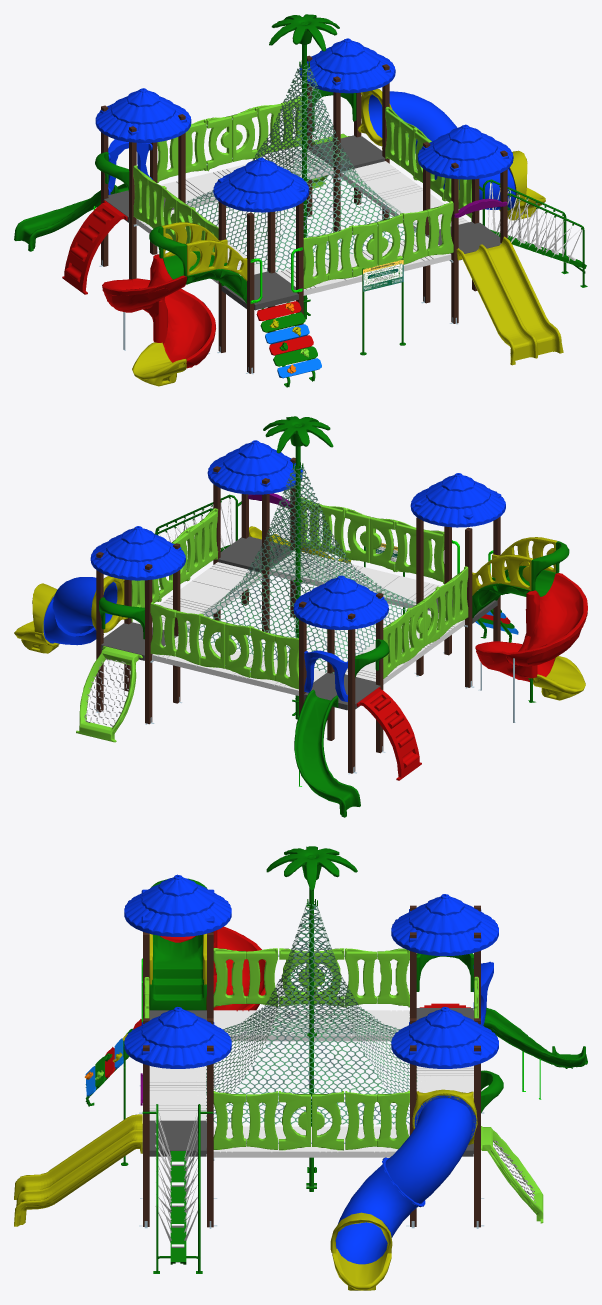
3 renders of one model, top to bottom at view 1: azimuth 30°, elevation 25°; view 2: azimuth 150°, elevation 25°; view 3: azimuth 270°, elevation 25°, orthographic. The views are drawn at different scales.
Visible parts, largest first — view 1: object 7, object 47, TOLDO M2.001, TOLDO M2.003, TOLDO M2, TOLDO M2.002, PASSARELA FIXA 3M M3.007, object 54, PASSARELA FIXA 3M M3.005, PASSARELA FIXA 3M M3.006, RAMPA DE AGARRA.006, PRANCHA.001 (+36 smaller); view 2: object 7, object 47, TOLDO M2.001, TOLDO M2.002, TOLDO M2, TOLDO M2.003, PASSARELA FIXA 3M M3.006, PASSARELA FIXA 3M M3.007, object 55, PASSARELA FIXA 3M M3.005, LATERAL M1, PLATAFORMA M1.004 (+38 smaller); view 3: object 7, object 47, PASSARELA FIXA 3M M3.004, TOLDO M2.001, TOLDO M2.003, TOLDO M2, TOLDO M2.002, object 54, PASSARELA FIXA 3M M3.006, PASSARELA FIXA 3M M3.007, object 55, PLATAFORMA M1.004 (+20 smaller).
Boxes of the visible parts, box(x1,y1,x2,y2) form: object 7: box(14, 14, 586, 386); object 47: box(186, 44, 425, 319); TOLDO M2.001: box(213, 157, 309, 212); TOLDO M2.003: box(417, 124, 513, 179); TOLDO M2: box(95, 88, 191, 143); TOLDO M2.002: box(299, 38, 395, 93); PASSARELA FIXA 3M M3.007: box(337, 161, 468, 232); object 54: box(479, 179, 587, 287); PASSARELA FIXA 3M M3.005: box(160, 149, 335, 207); PASSARELA FIXA 3M M3.006: box(275, 235, 453, 295); RAMPA DE AGARRA.006: box(260, 302, 321, 387); PRANCHA.001: box(256, 301, 317, 366); object 7: box(14, 416, 587, 817); object 47: box(178, 446, 493, 719); TOLDO M2.001: box(410, 473, 505, 527); TOLDO M2.002: box(90, 526, 185, 580); TOLDO M2: box(293, 575, 388, 629); TOLDO M2.003: box(207, 440, 302, 494); PASSARELA FIXA 3M M3.006: box(267, 550, 440, 608); PASSARELA FIXA 3M M3.007: box(135, 562, 264, 632); object 55: box(76, 646, 142, 742); PASSARELA FIXA 3M M3.005: box(150, 636, 326, 695); LATERAL M1: box(472, 554, 532, 595); PLATAFORMA M1.004: box(218, 536, 293, 572); object 7: box(14, 846, 587, 1290); object 47: box(141, 890, 417, 1191); PASSARELA FIXA 3M M3.004: box(213, 1010, 409, 1041); TOLDO M2.001: box(124, 874, 231, 936); TOLDO M2.003: box(124, 1006, 231, 1068); TOLDO M2: box(391, 894, 498, 955); TOLDO M2.002: box(391, 1006, 498, 1068); object 54: box(142, 1104, 213, 1273); PASSARELA FIXA 3M M3.006: box(149, 1066, 206, 1122); PASSARELA FIXA 3M M3.007: box(213, 1126, 409, 1160); object 55: box(481, 1126, 543, 1223); PLATAFORMA M1.004: box(142, 1120, 206, 1156).
Bounding box in the file's own units: 9.28 × 5.26 × 8.14.
Materials: 44 (3 with a texture image).
